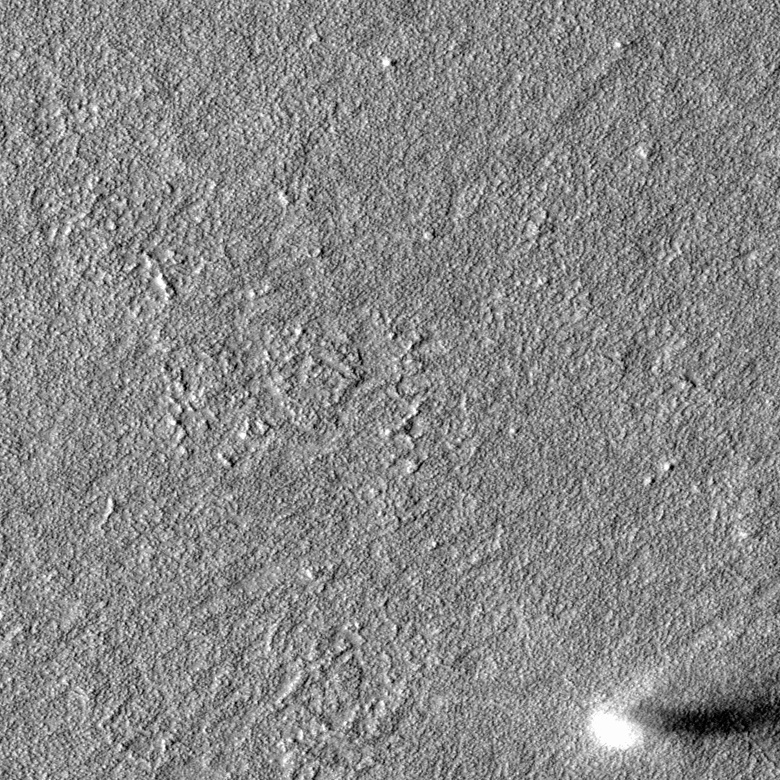dust_devil: (579, 685, 780, 754)
